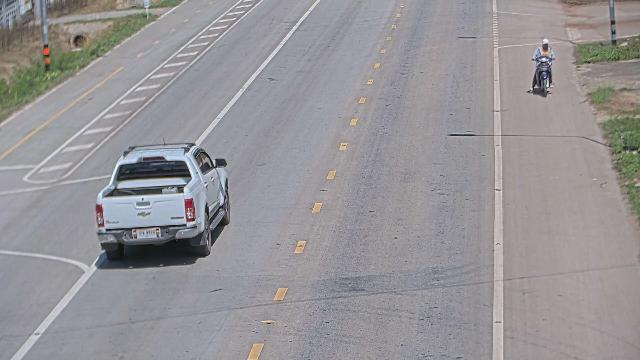motorcycle: (532, 47, 557, 96)
pickup-truck: (94, 140, 231, 260)
